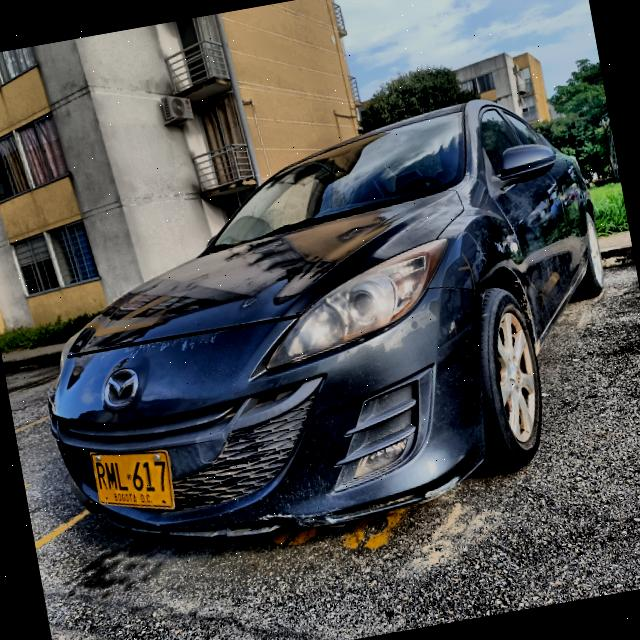plate: (91, 451, 172, 507)
